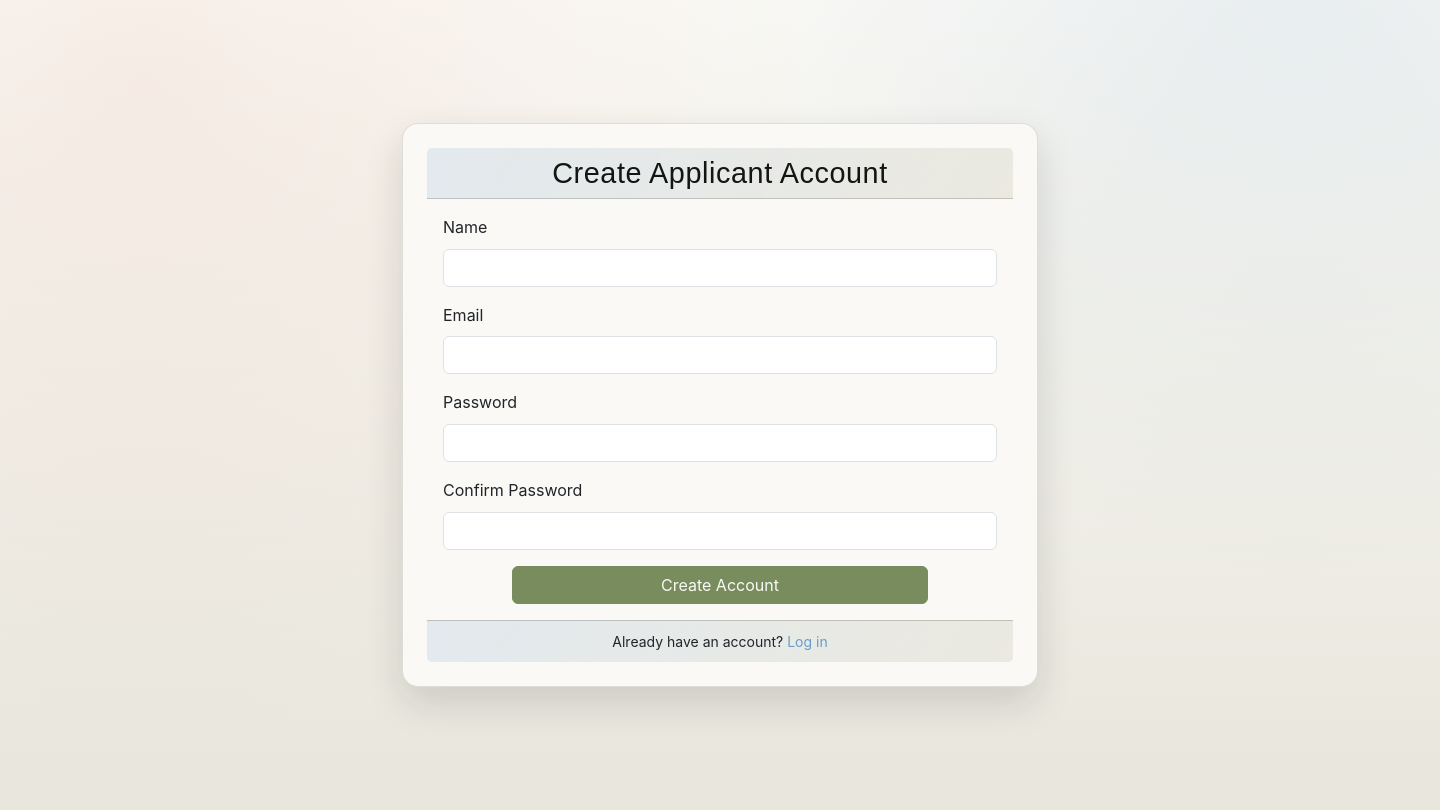
Test case: Register › should block registration when passwords do not match
In the field labelled "Name": (720, 268) x1=443 y1=249 x2=997 y2=287, type "Rafael Costa"
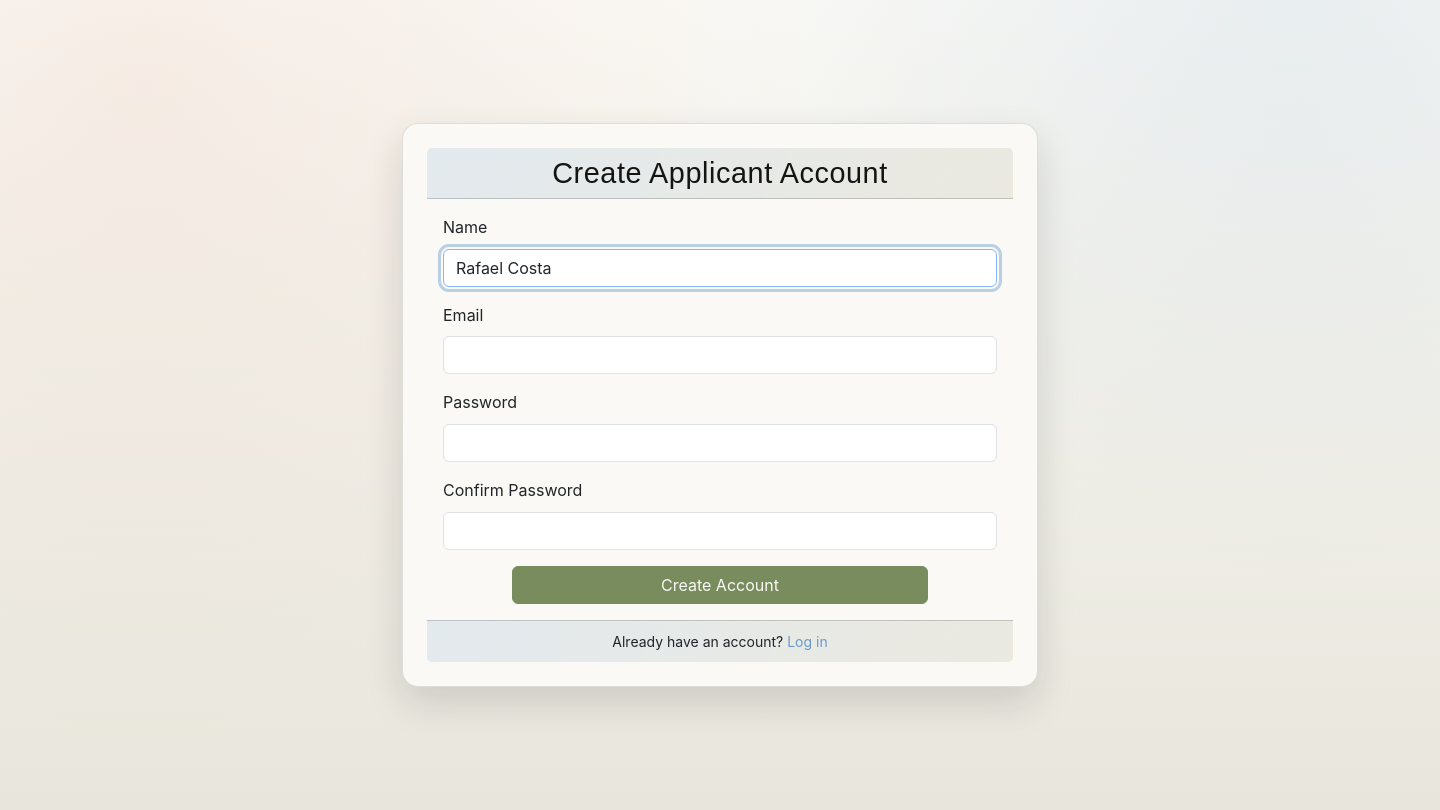
In the field labelled "Email": (720, 356) x1=443 y1=336 x2=997 y2=374, type "rafael@example.com"
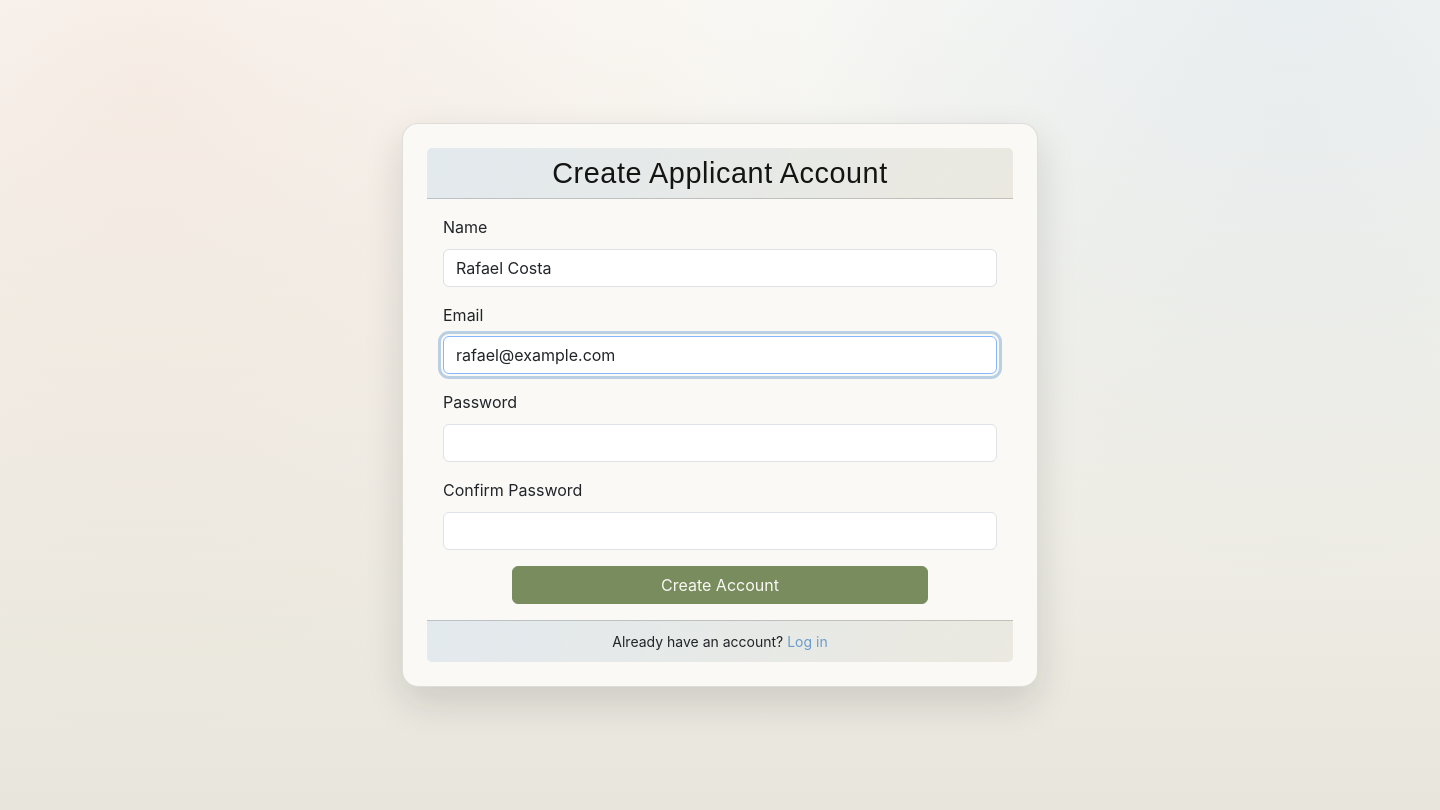
In the password field labelled "Password": (720, 443) x1=443 y1=424 x2=997 y2=462, type "applicant123"
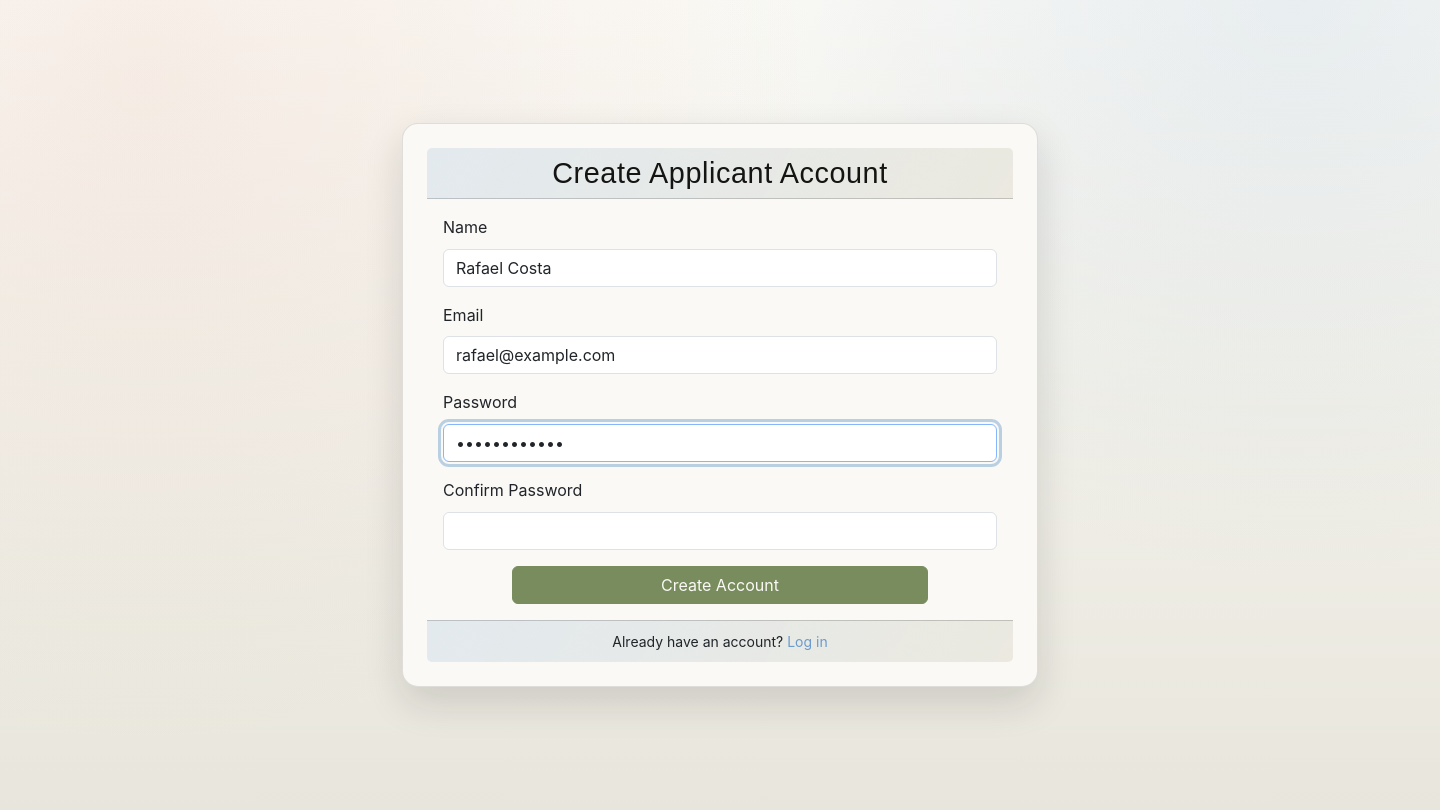
In the password field labelled "Confirm Password": (720, 531) x1=443 y1=512 x2=997 y2=550, type "different123"
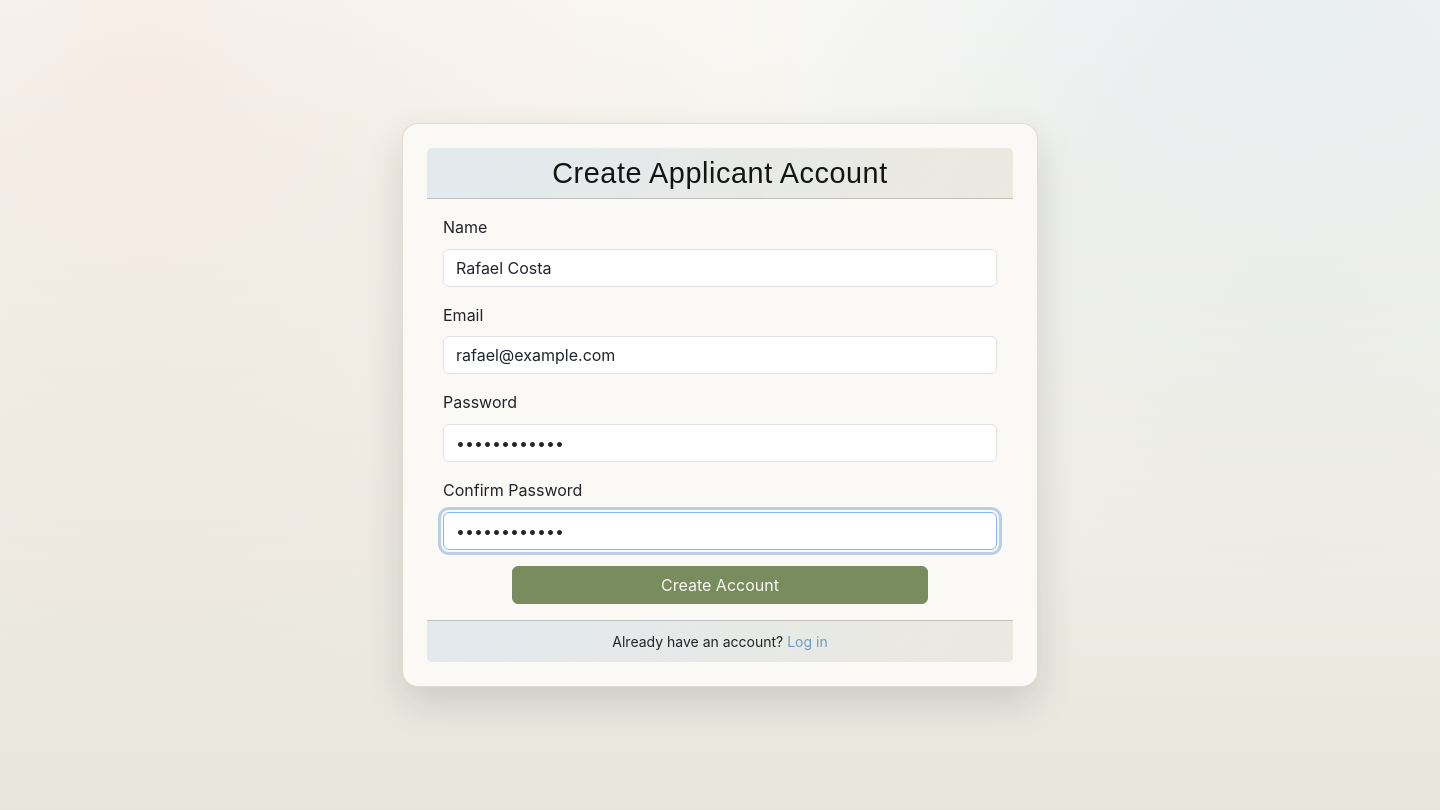
Click the button "Create Account": (720, 585) x1=512 y1=566 x2=928 y2=604
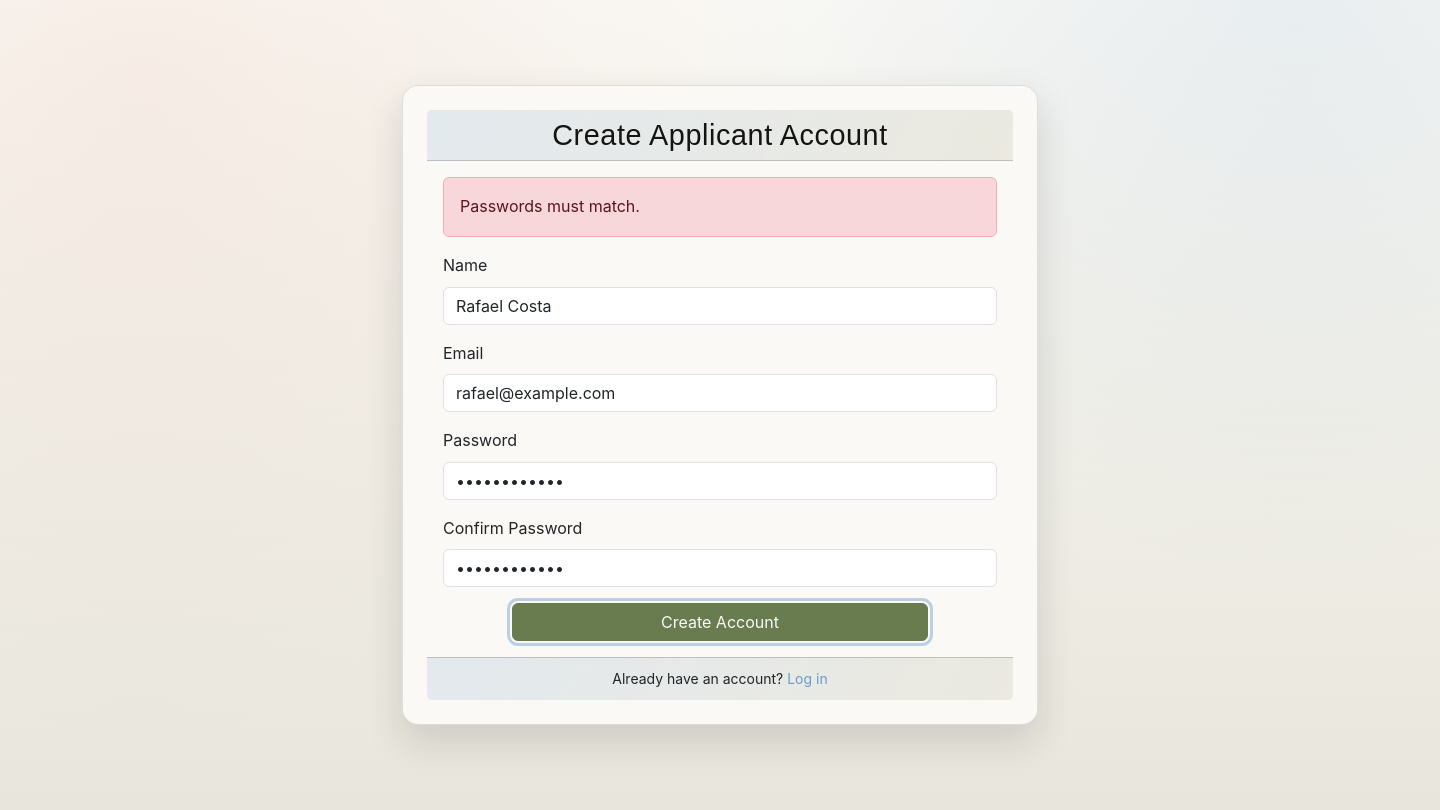
Expected: the message reads "Passwords must match.", x1=460 y1=196 x2=640 y2=216
